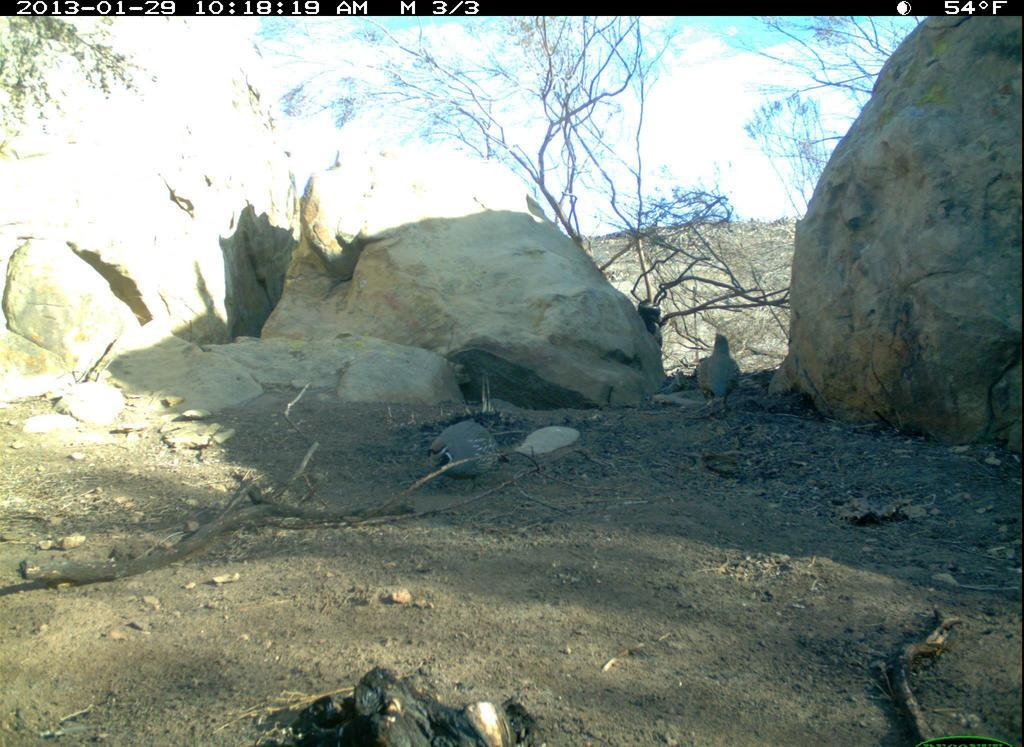bird: (413, 412, 521, 499), (692, 329, 750, 420)
